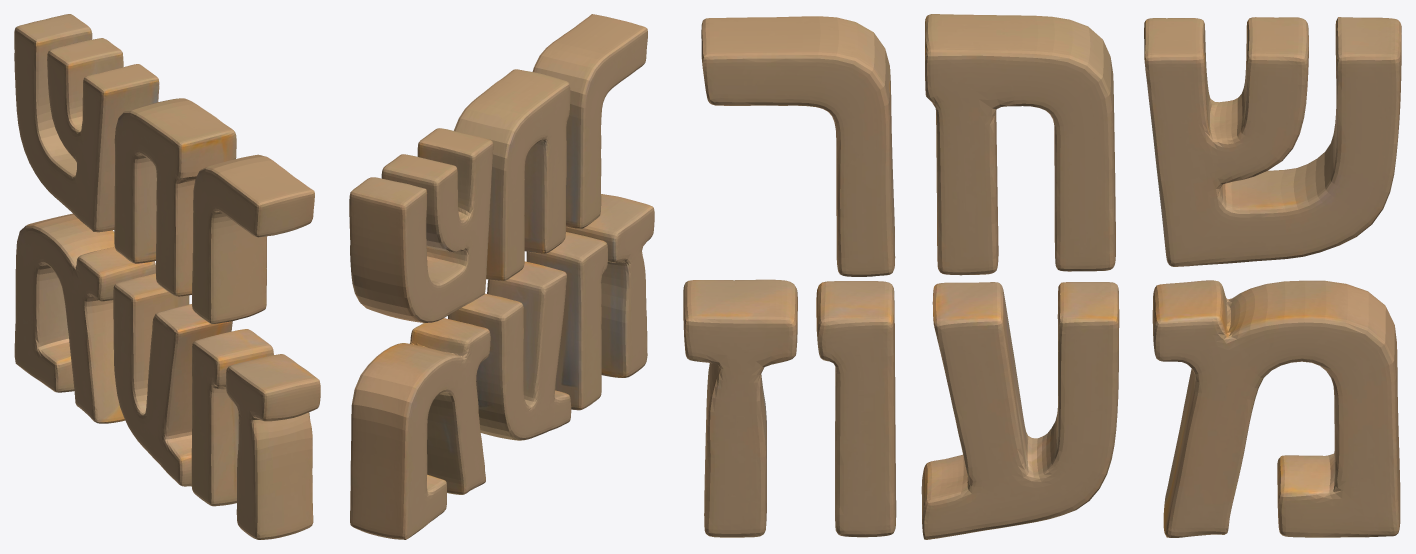
Rendered from ShaharHeb.glb.
3 renders of one model, left to right at view 1: azimuth 30°, elevation 25°; view 2: azimuth 150°, elevation 25°; view 3: azimuth 270°, elevation 25°, orthographic. The views are drawn at different scales.
Parts seen in each view (by area): view 1: tripo_node_dc46b7ff-d3be-4e4e-9f37-3839a5fad31e; view 2: tripo_node_dc46b7ff-d3be-4e4e-9f37-3839a5fad31e; view 3: tripo_node_dc46b7ff-d3be-4e4e-9f37-3839a5fad31e.
Boxes of the visible parts, x1,y1,x2,y2 form: tripo_node_dc46b7ff-d3be-4e4e-9f37-3839a5fad31e: (14,14,320,539); tripo_node_dc46b7ff-d3be-4e4e-9f37-3839a5fad31e: (349,14,654,539); tripo_node_dc46b7ff-d3be-4e4e-9f37-3839a5fad31e: (683,14,1401,539).
Bounding box in the file's own units: 0.1332 × 0.7624 × 0.9998.
1 material, 1 textured.
